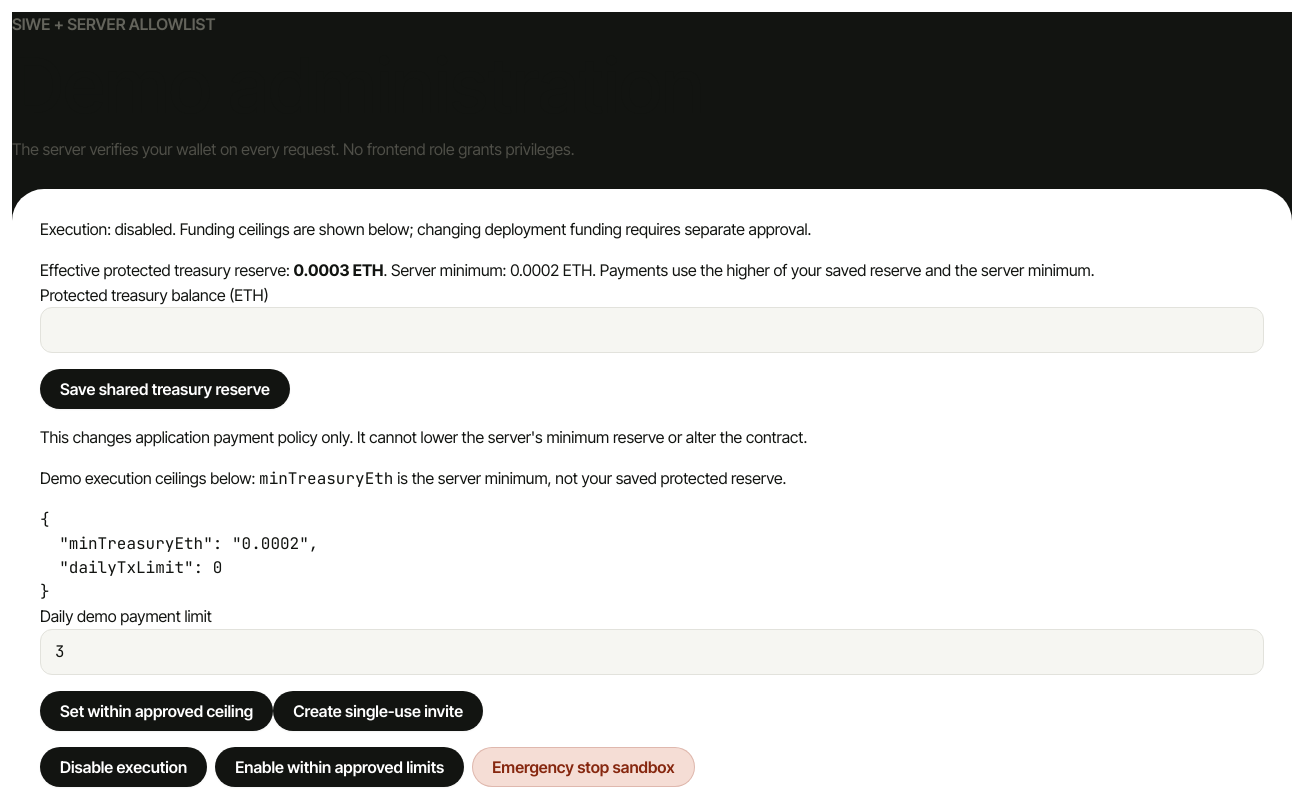
Test: a rejected reserve update displays the backend error without a success notice
This screenshot has width=1292, height=805.
In the field labelled "Protected treasury balance": {"x": 652, "y": 330} [40, 307, 1264, 353], type "0.0003"
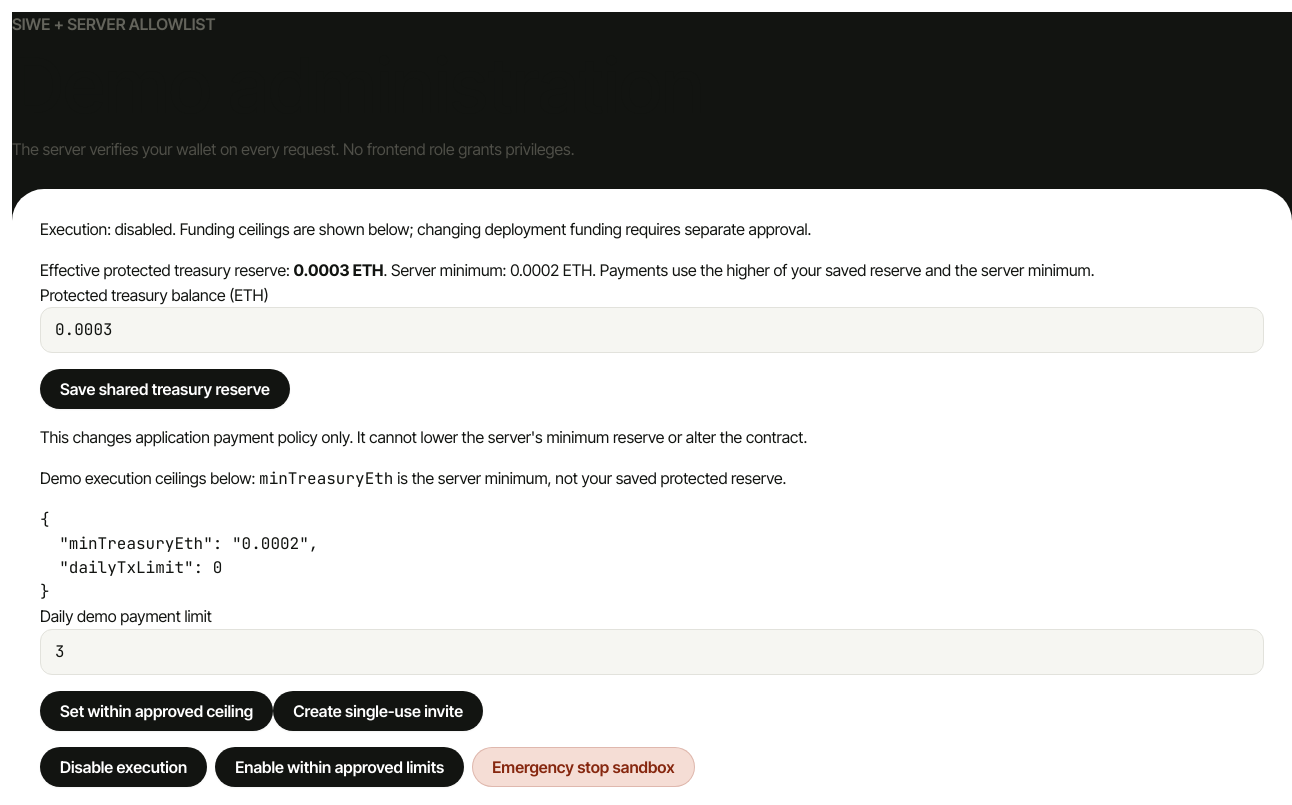
Click the button "Save shared treasury reserve": {"x": 165, "y": 389} [40, 369, 290, 409]
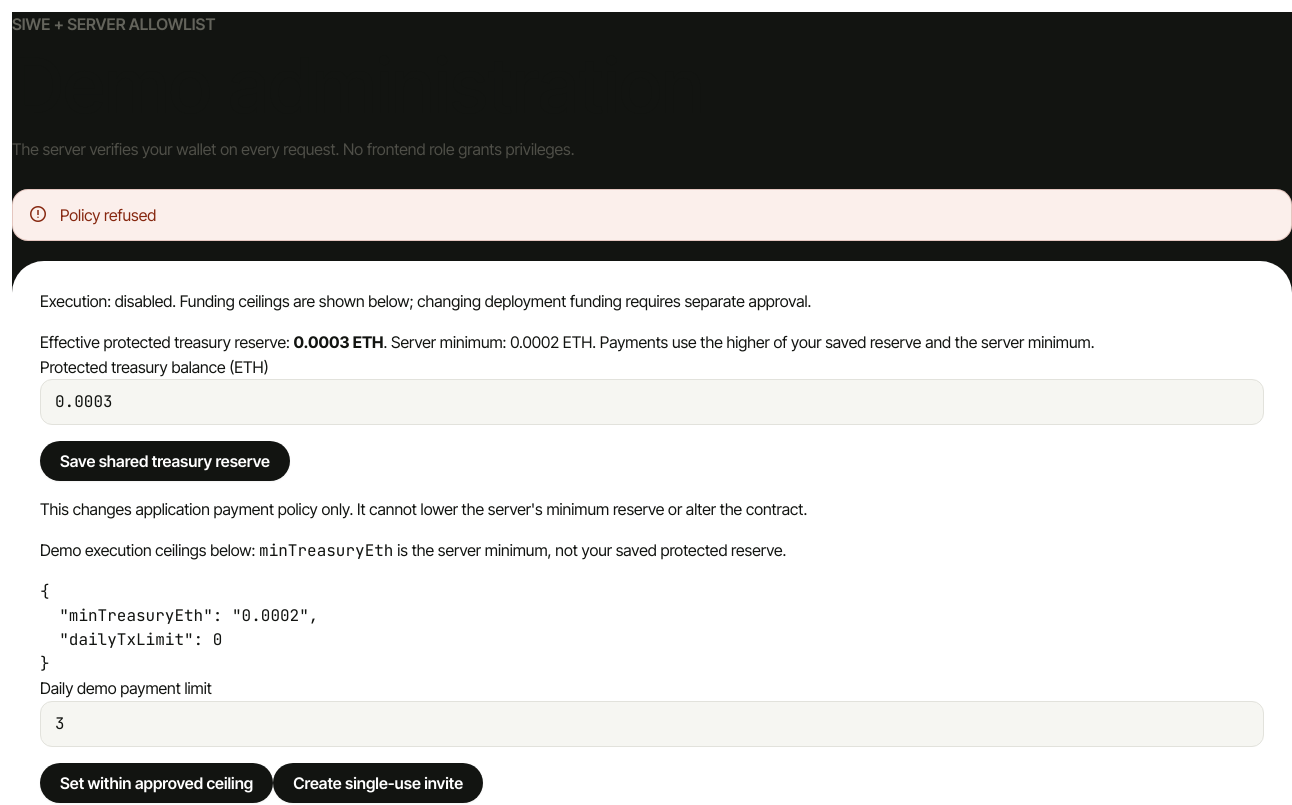
Expected: the text "Policy refused" is shown, [60, 203, 156, 227]
